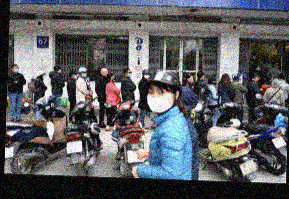with_mask: (146, 86, 175, 116), (144, 72, 150, 81), (81, 71, 88, 78), (127, 71, 133, 79), (14, 66, 20, 73), (111, 75, 116, 83), (190, 76, 195, 84), (252, 54, 258, 60), (256, 66, 262, 72), (213, 79, 218, 86), (73, 73, 78, 79), (202, 74, 206, 81), (42, 73, 45, 80), (271, 78, 274, 84)
without_mask: (102, 69, 110, 77), (255, 76, 261, 83)
